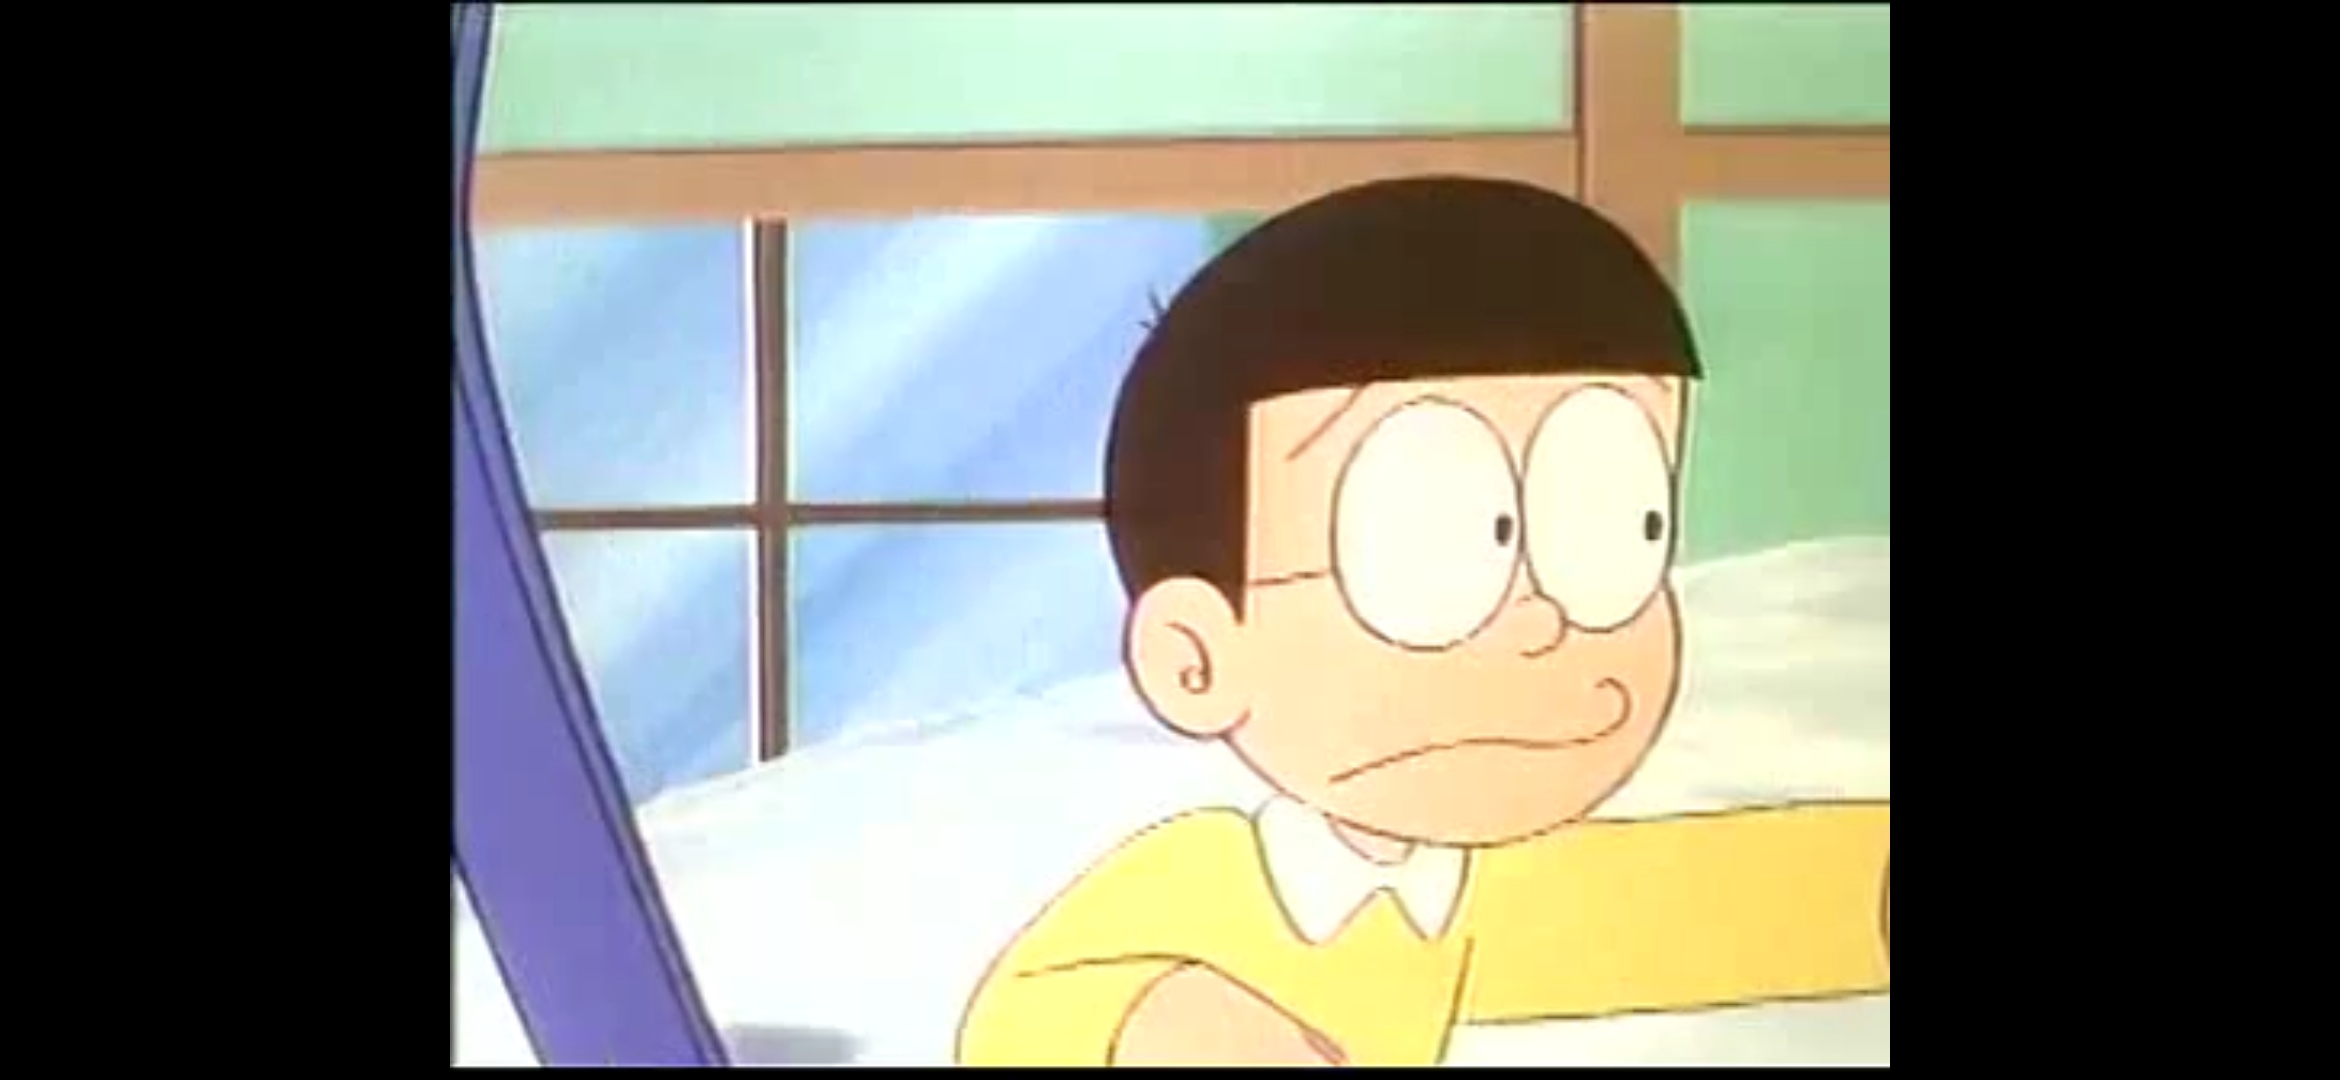Nobi: (1103, 176, 1704, 844)
